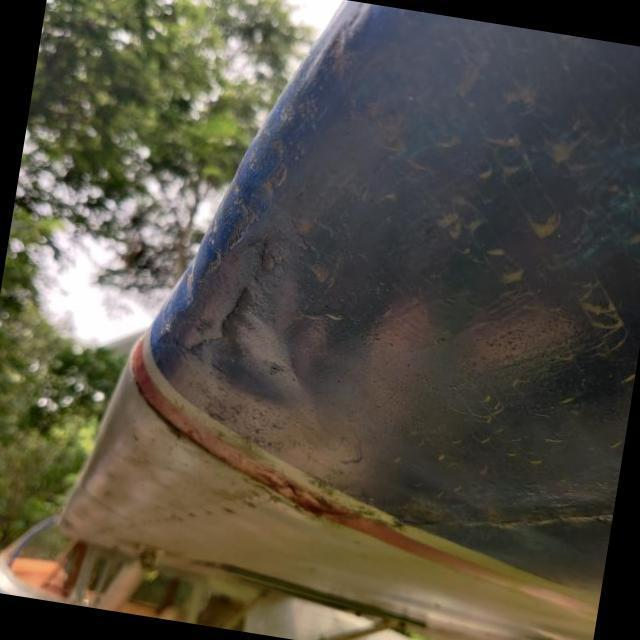Dent: (185, 262, 348, 444)
